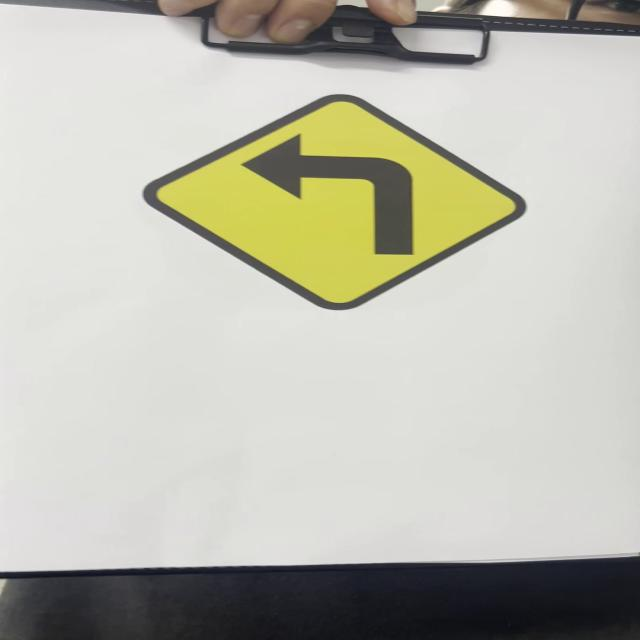left: (144, 94, 529, 310)
